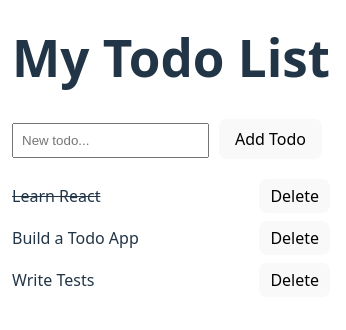
TodoList Component › allows a user to add a new todo item
Simulate user typing
Type "Buy groceries" into the field with test id "todo-input" at x=110, y=141, box [12, 124, 209, 158]
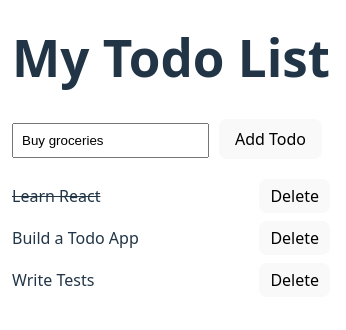
Simulate form submission
Click the button with test id "add-button" at x=270, y=140, box [219, 120, 322, 160]
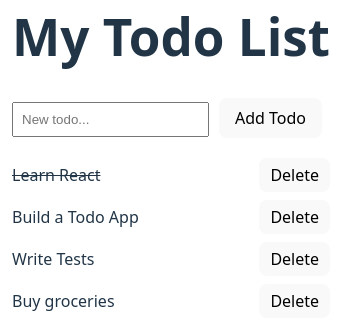
expect the text "Buy groceries" is shown: met, box [12, 290, 114, 314]
expect the field with test id "todo-input" is empty: met, box [12, 102, 209, 138]
